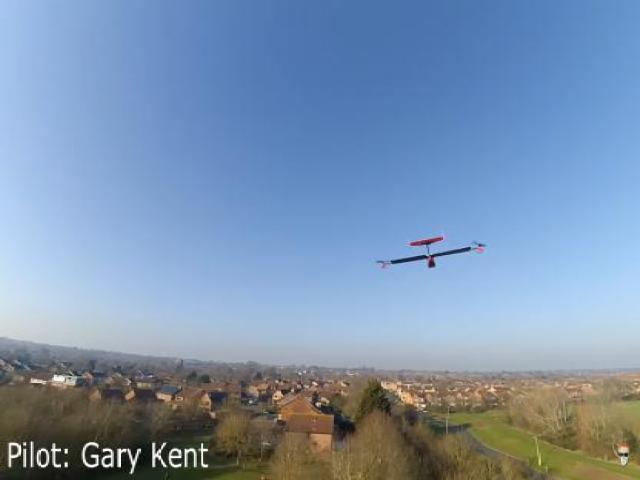uav: (370, 225, 488, 279)
